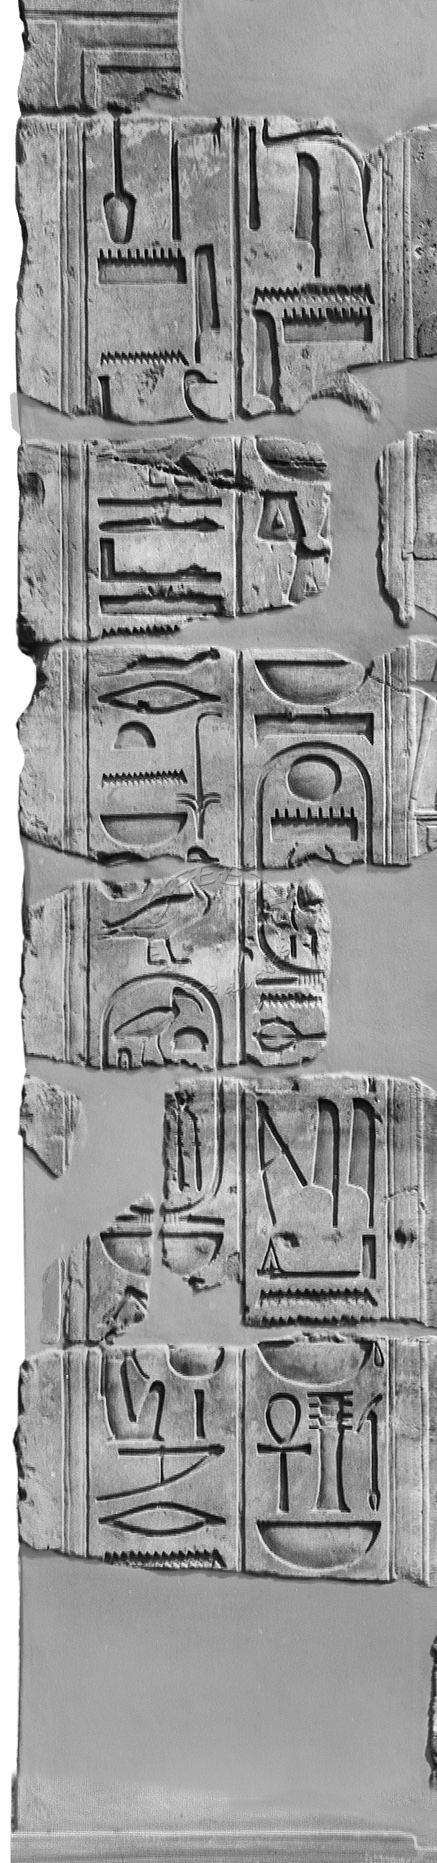D21: (91, 1495, 228, 1542), (90, 678, 221, 718)
F35: (97, 97, 145, 245)
M17: (341, 1092, 400, 1234), (302, 1093, 351, 1238), (242, 305, 302, 422), (289, 146, 332, 282), (186, 238, 226, 370)
N35: (253, 1282, 386, 1319), (100, 1545, 235, 1577), (246, 279, 380, 309), (97, 617, 205, 652), (90, 342, 196, 373), (251, 987, 342, 1015), (97, 768, 190, 790)
V30: (251, 1508, 389, 1571), (245, 652, 378, 713), (93, 1226, 228, 1283), (251, 1333, 378, 1392), (97, 806, 194, 854)
